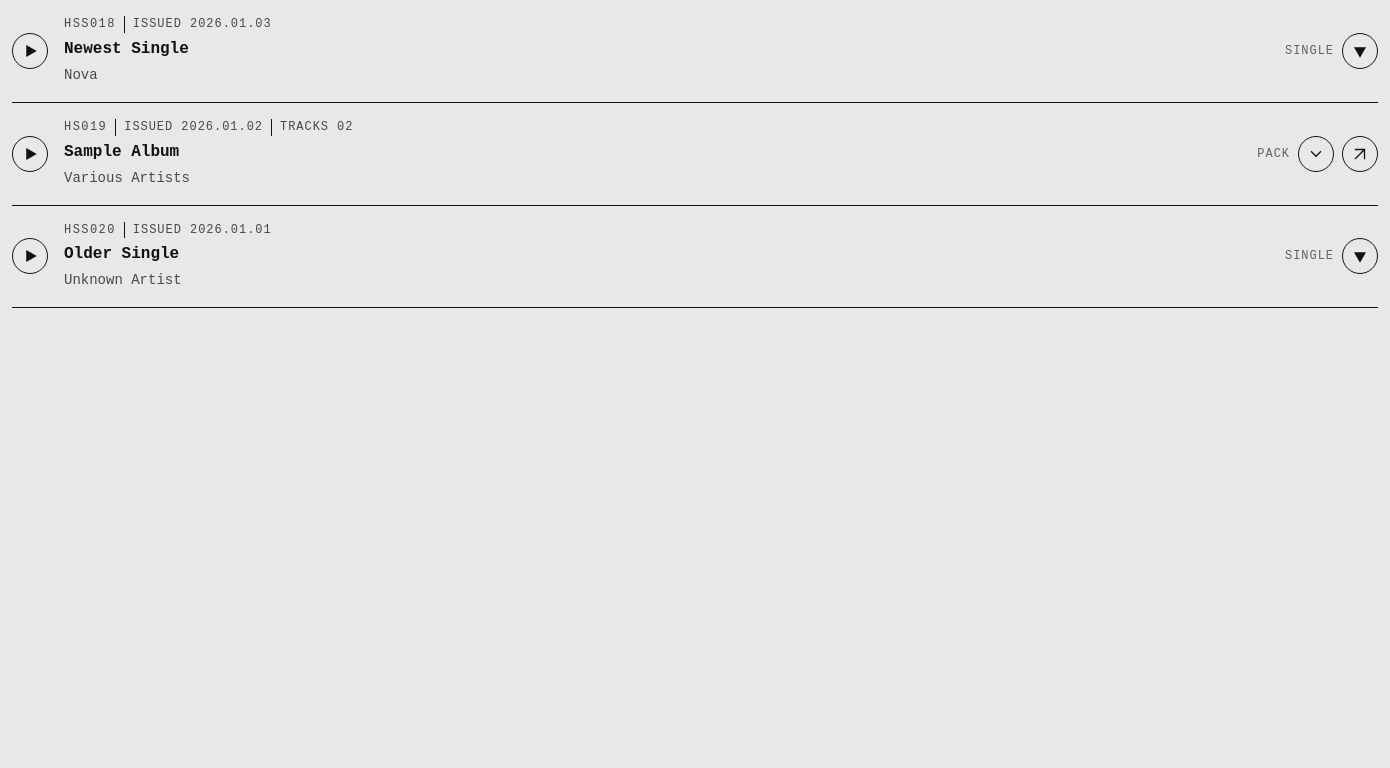
FeedList download buttons › every single and every expanded album track has a download button
Expected: the button named "Download Newest Single" is shown, [1342,33,1378,69]
Expected: the button named "Download Older Single" is shown, [1342,238,1378,274]
Click the button named "Expand tracks".
click(1316, 154)  # box [1298,136,1334,172]
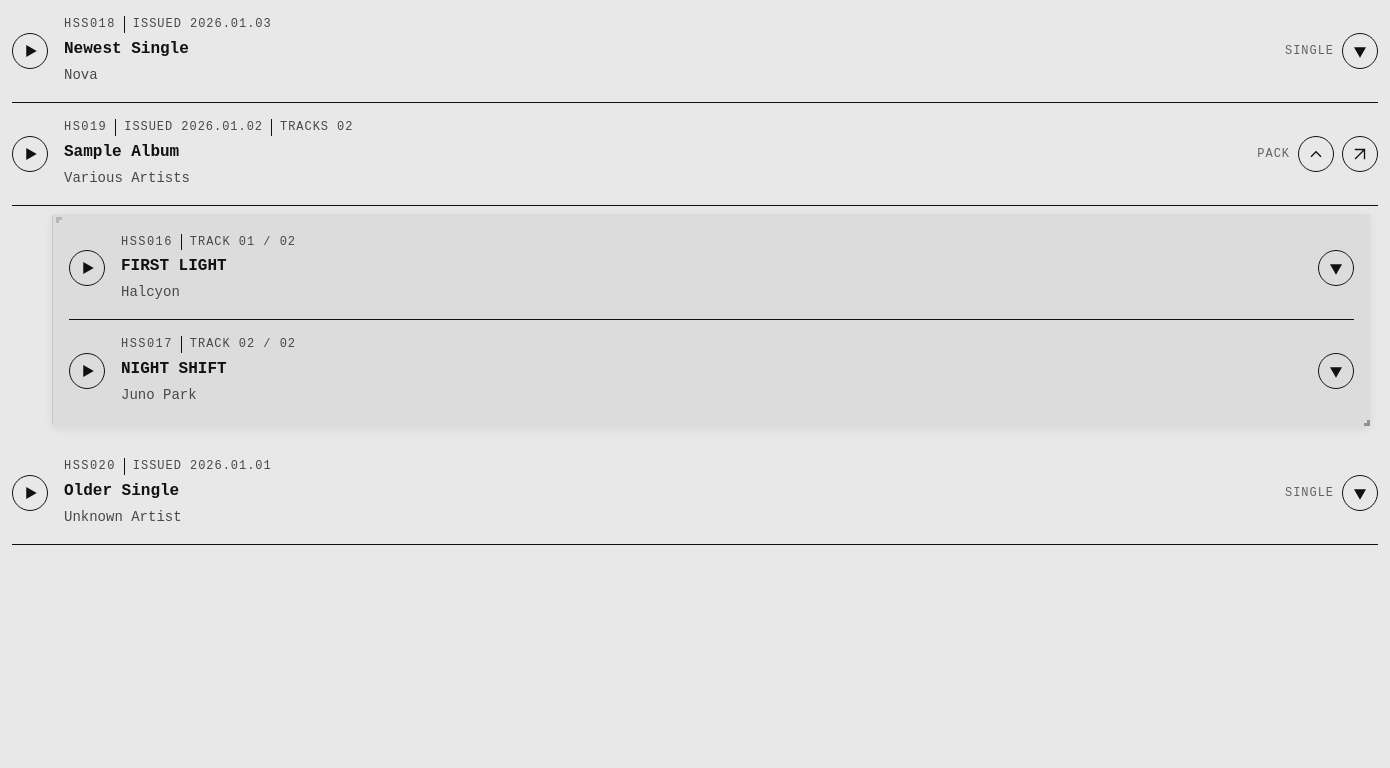
Now the button named "Download FIRST LIGHT" is shown, box [1318,250,1354,286]
Now the button named "Download NIGHT SHIFT" is shown, box [1318,353,1354,389]
